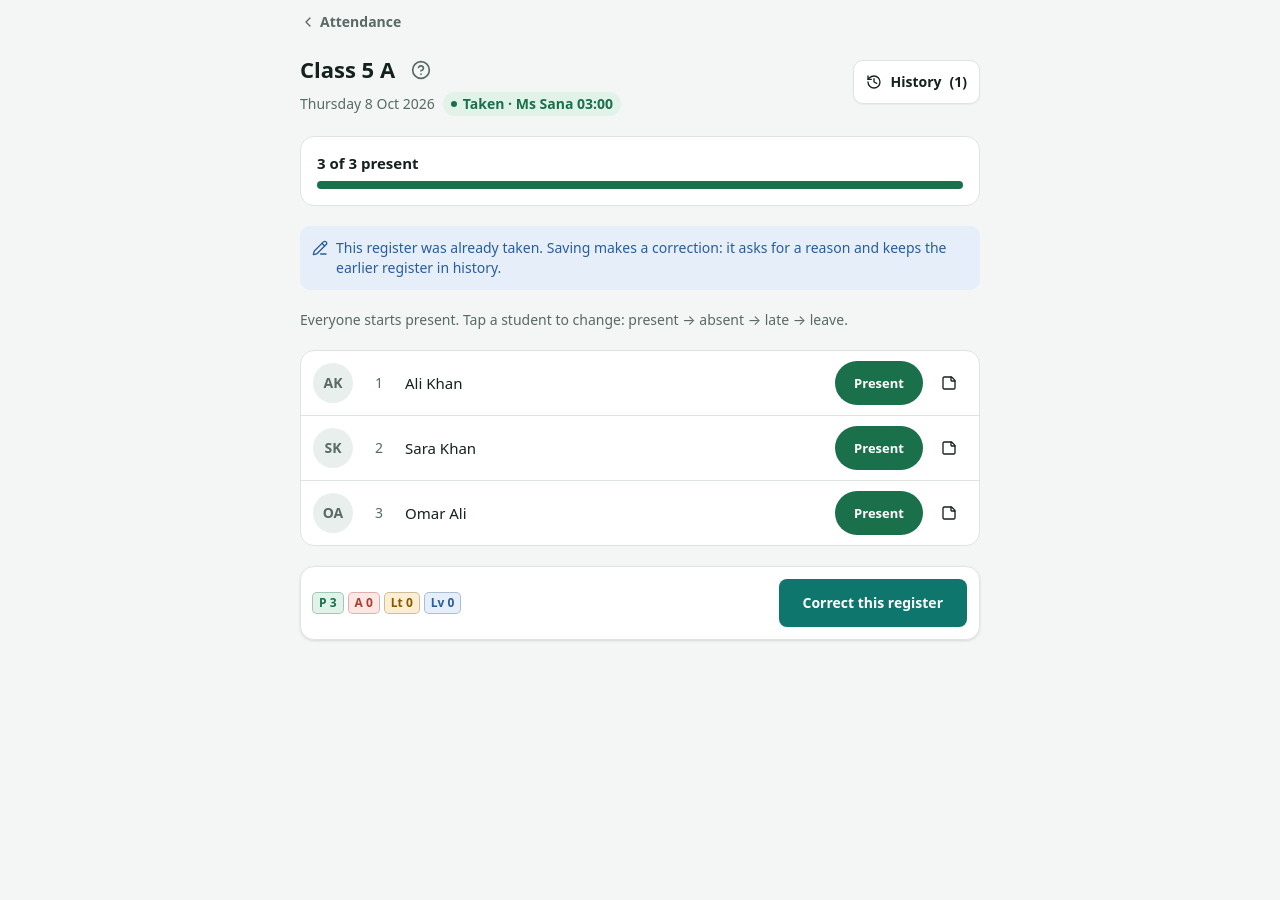
Test: attendance register (M7b-2) › an admin opening a taken register sees correction mode before saving, and Save asks for a reason
The image size is (1280, 900).
Expected: the text "Saving makes a correction" is shown, [336,238,946,277]
Click the button "Correct this register" at coordinates (873, 603), box [778,579,967,627]
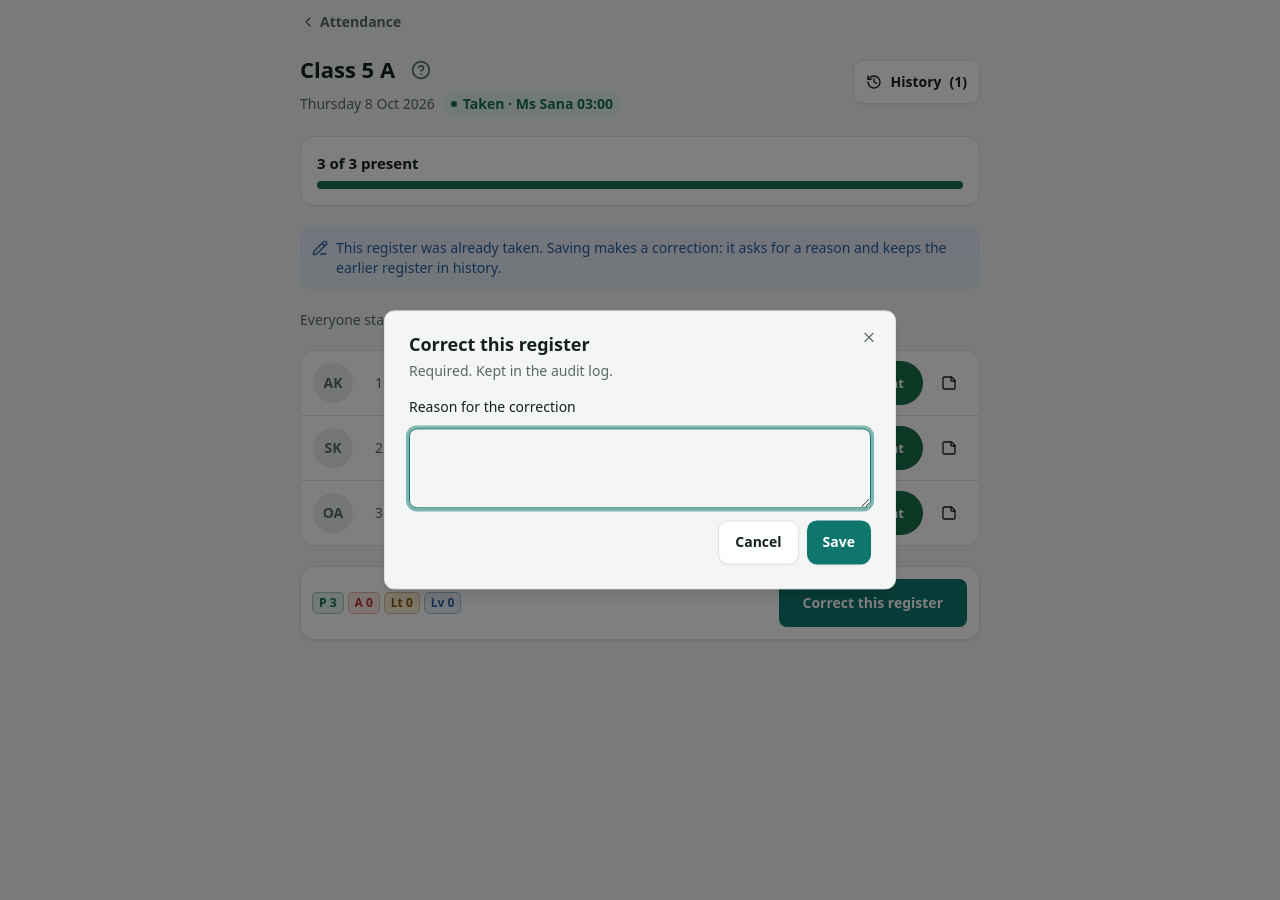
Expected: the text box labelled "Reason for the correction" is shown, [409,429,871,509]
